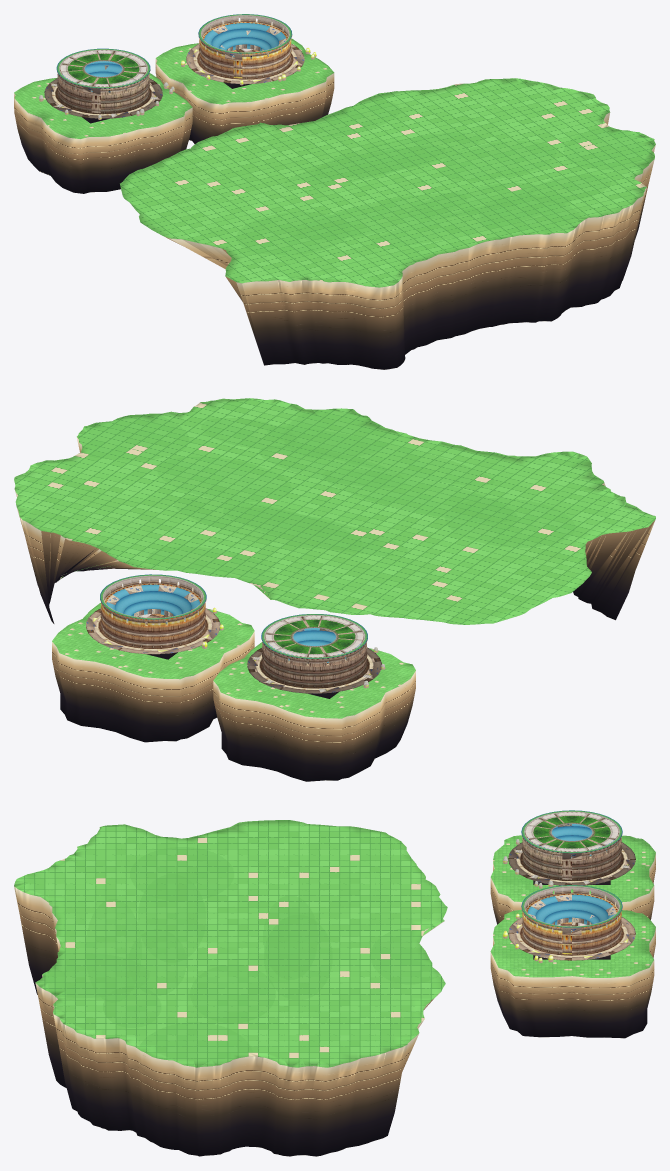
The model's file is digi_farm_3d.glb.
The picture shows the model from 3 angles, top to bottom: view 1: azimuth 30°, elevation 25°; view 2: azimuth 150°, elevation 25°; view 3: azimuth 270°, elevation 25°; orthographic projection. The views are drawn at different scales.
Parts seen in each view (by area): view 1: Island, IlandColosseum.002, IlandColosseum.001, FarmColosseum_C, FarmColosseum_O.001; view 2: Island, IlandColosseum.002, IlandColosseum.001, FarmColosseum_O.001, FarmColosseum_C; view 3: Island, IlandColosseum.001, FarmColosseum_O.001, FarmColosseum_C, IlandColosseum.002.
Boxes of the visible parts, bbox=[...] form: Island: bbox=[120, 78, 655, 369]; IlandColosseum.002: bbox=[14, 73, 192, 193]; IlandColosseum.001: bbox=[155, 38, 334, 143]; FarmColosseum_C: bbox=[39, 48, 174, 119]; FarmColosseum_O.001: bbox=[181, 14, 316, 85]; Island: bbox=[14, 398, 655, 624]; IlandColosseum.002: bbox=[213, 642, 415, 781]; IlandColosseum.001: bbox=[52, 603, 254, 742]; FarmColosseum_O.001: bbox=[86, 574, 223, 654]; FarmColosseum_C: bbox=[247, 614, 385, 693]; Island: bbox=[14, 820, 447, 1156]; IlandColosseum.001: bbox=[490, 909, 655, 1038]; FarmColosseum_O.001: bbox=[502, 885, 635, 963]; FarmColosseum_C: bbox=[502, 810, 635, 888]; IlandColosseum.002: bbox=[490, 835, 655, 924].
Bounding box in the file's own units: 1.93 × 0.5038 × 2.11.
5 materials, 5 textured.
